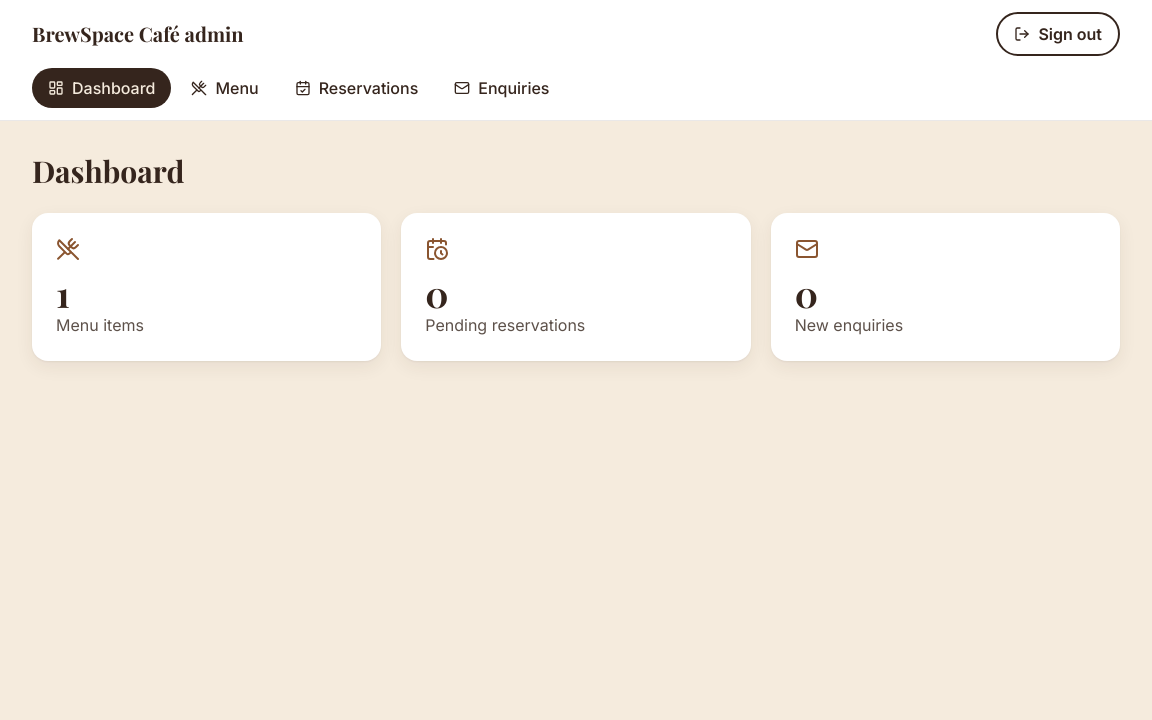
admin access control › sends the bearer token on admin requests and signs out from the header
Expected: the heading "Dashboard" is shown, [32,151,184,191]
Click the button "Sign out". click: click(1058, 34)
box: [996,12,1120,56]
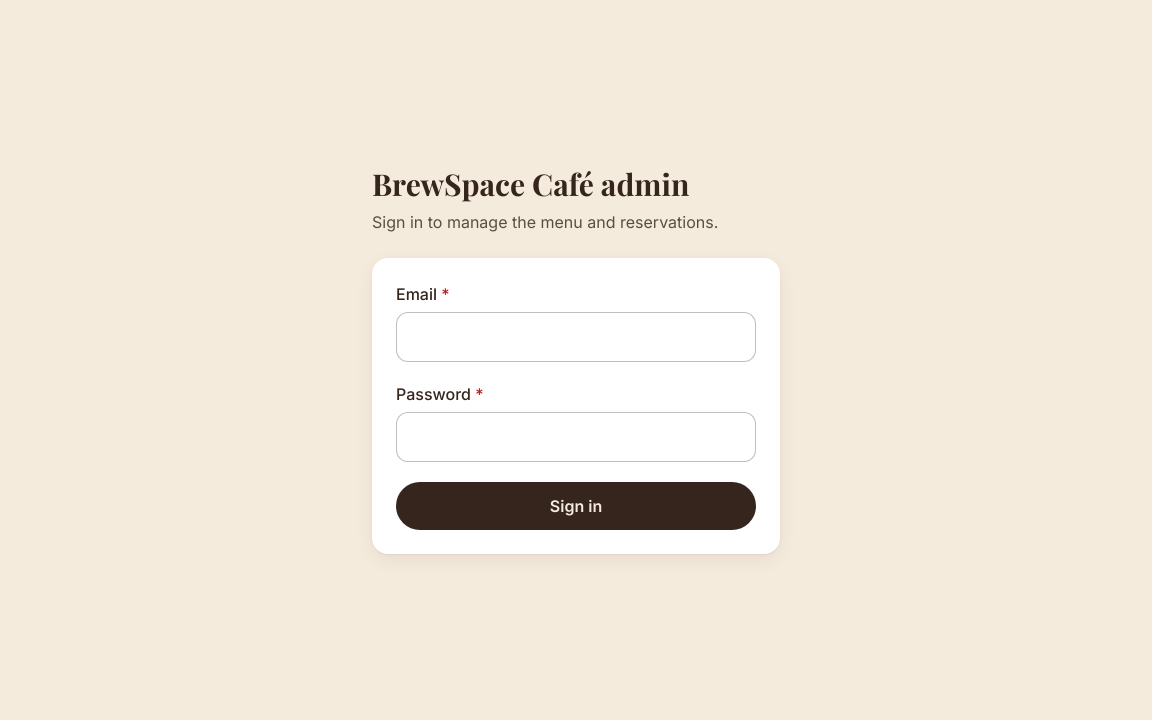
Expected: the button "Sign in" is shown, [396,482,756,530]
